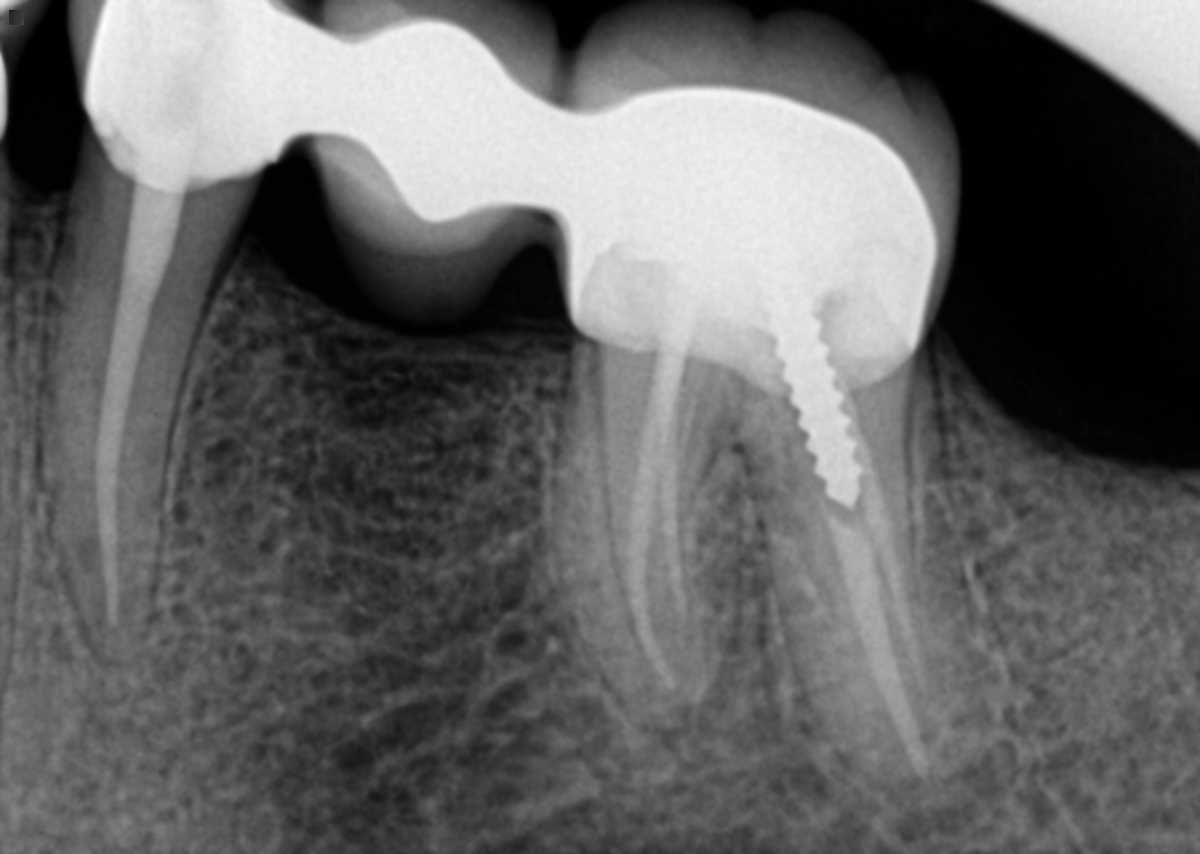Apical Lesion: (881, 736, 1021, 844), (663, 686, 734, 761)
Distal Root: (732, 376, 964, 792)
Main Root: (39, 155, 261, 671)
Mesial Root: (556, 346, 731, 726)
Root Canal Filling: (94, 178, 193, 631), (831, 524, 928, 774), (861, 492, 925, 691)
